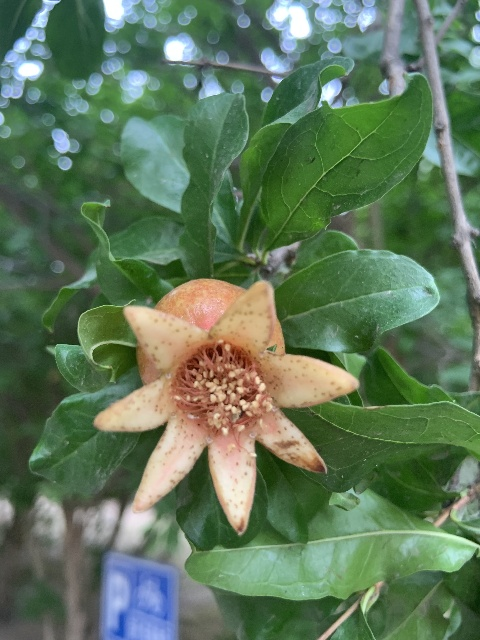early-fruit: (91, 277, 357, 534)
